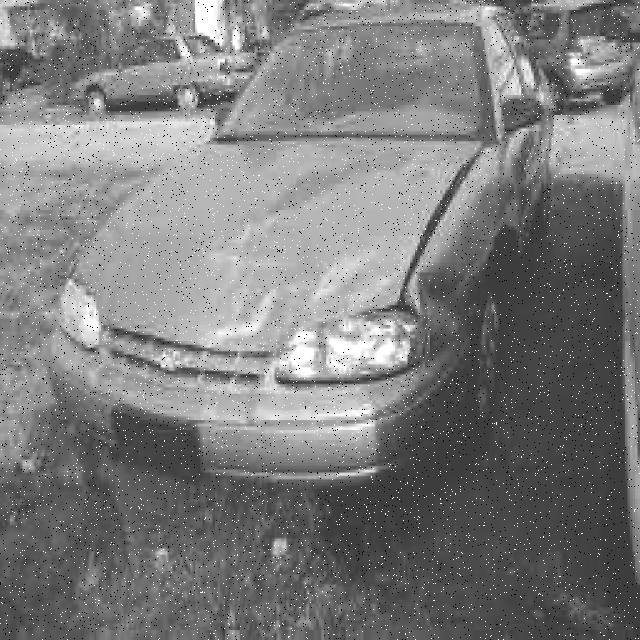car damage: (207, 212, 408, 371), (415, 263, 471, 362)
